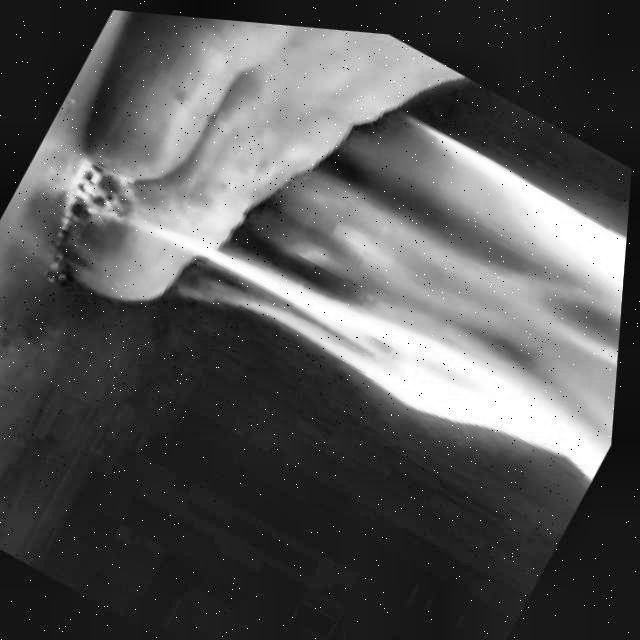Fire: (120, 10, 640, 509)
